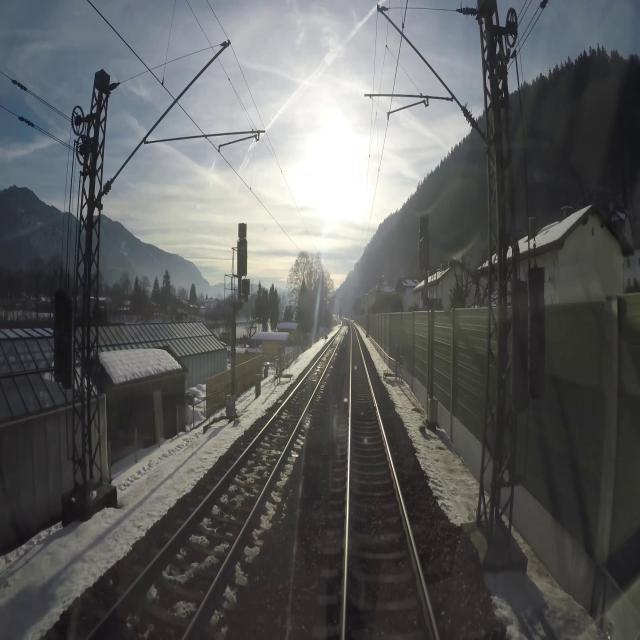rail-track: (93, 331, 342, 639), (347, 327, 435, 639)
